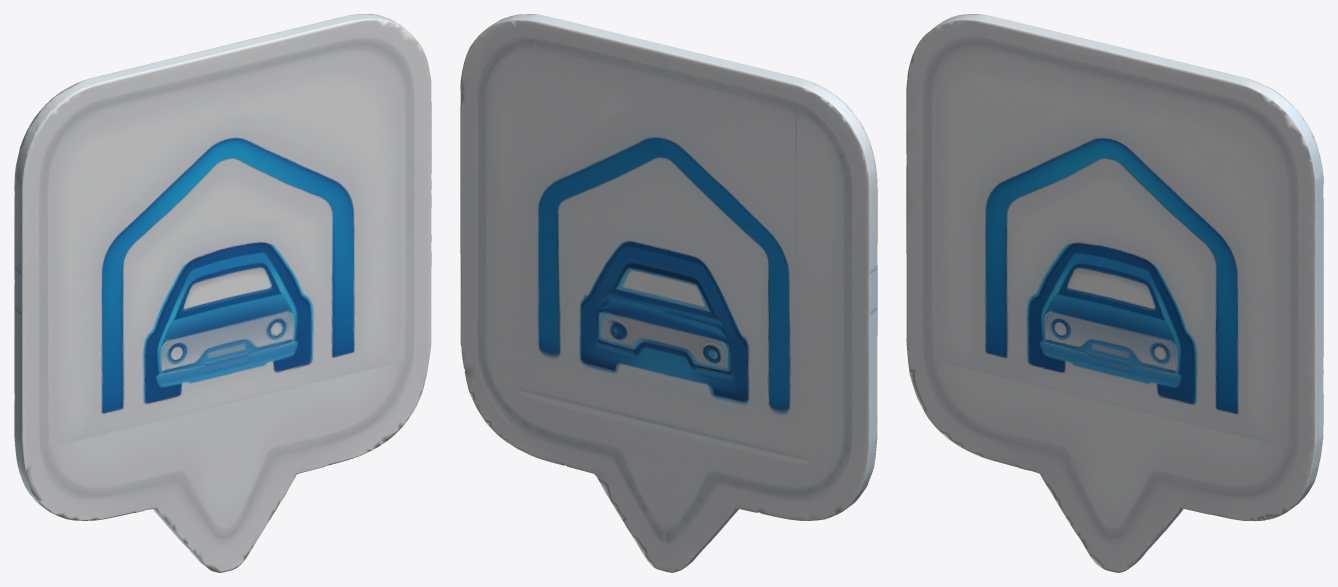
The model's file is flat_marker.gltf.
The picture shows the model from 3 angles, left to right: view 1: azimuth 30°, elevation 25°; view 2: azimuth 150°, elevation 25°; view 3: azimuth 330°, elevation 25°; orthographic projection.
Parts seen in each view (by area): view 1: Node #0; view 2: Node #0; view 3: Node #0.
Boxes of the visible parts, box(x1,y1,x2,y2) form: Node #0: box(14, 14, 431, 572); Node #0: box(460, 14, 877, 572); Node #0: box(906, 14, 1323, 572).
Size of the model in its own units: 1.65 by 2 by 0.0585.
Materials: 1 (1 with a texture image).
